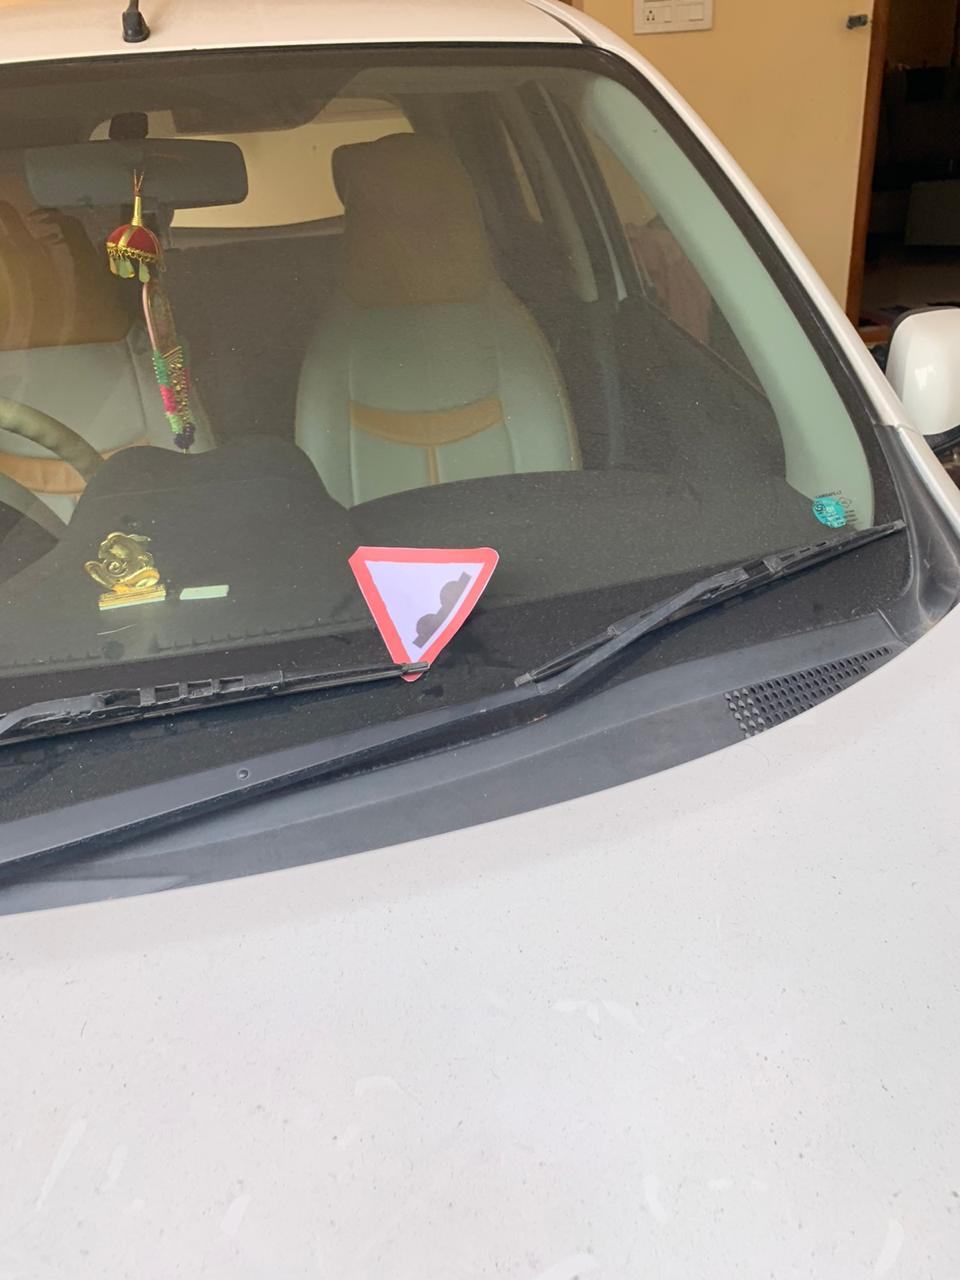UNEVEN ROAD: (302, 546, 542, 681)
